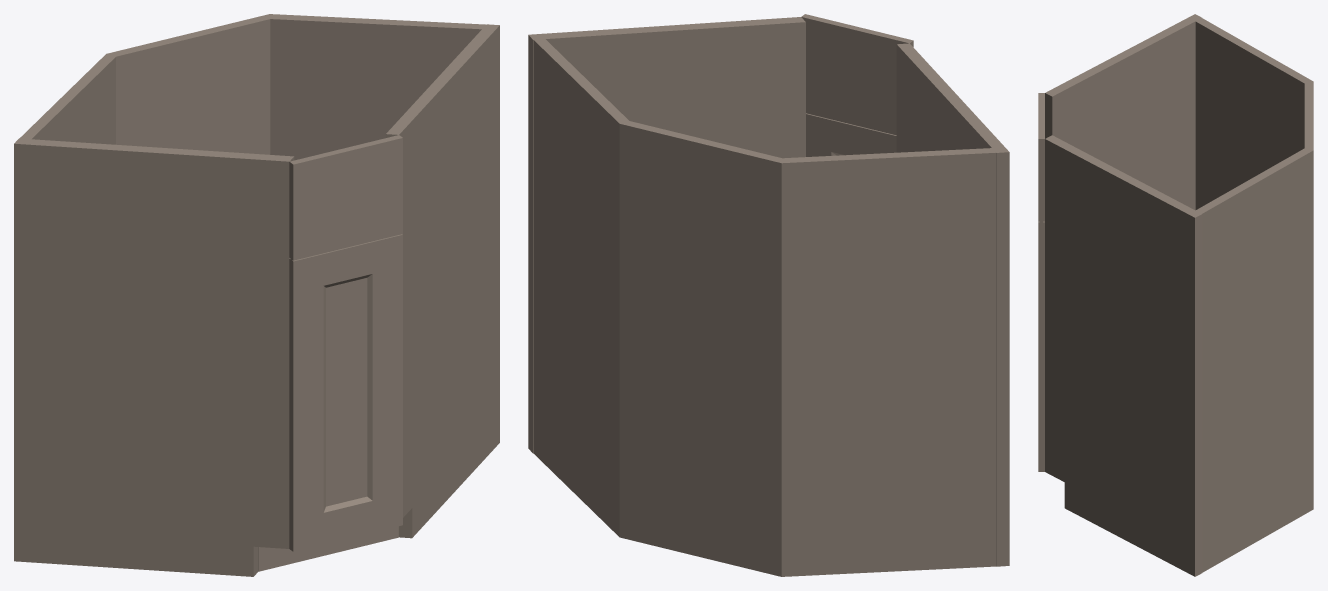
The model's file is Base-Cabinet-Corner-Sink.std.glb.
3 views of the same model, side by side, from view 1: azimuth 30°, elevation 25°; view 2: azimuth 150°, elevation 25°; view 3: azimuth 270°, elevation 25° (orthographic). The views are drawn at different scales.
Parts seen in each view (by area): view 1: Base-Cabinet-Corner-Sink.std.001; view 2: Base-Cabinet-Corner-Sink.std.001; view 3: Base-Cabinet-Corner-Sink.std.001.
Boxes of the visible parts, left/top/right/bottom form: Base-Cabinet-Corner-Sink.std.001: left=14, top=14, right=499, bottom=576; Base-Cabinet-Corner-Sink.std.001: left=528, top=14, right=1009, bottom=576; Base-Cabinet-Corner-Sink.std.001: left=1038, top=14, right=1313, bottom=576.
Bounding box in the file's own units: 1.07 × 0.8763 × 0.6096.
